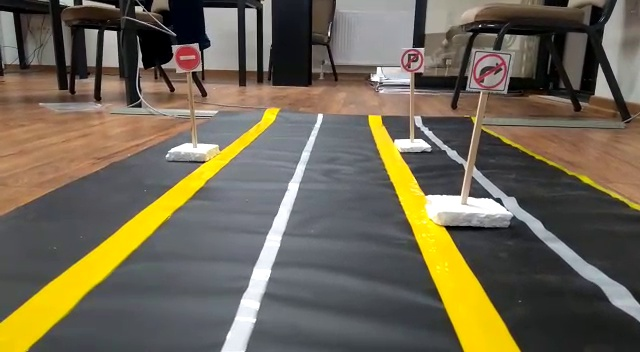girisi_olmayan_yol: (172, 45, 205, 73)
park_yapilmaz: (399, 47, 423, 73)
saga_donulmez: (468, 50, 508, 91)
